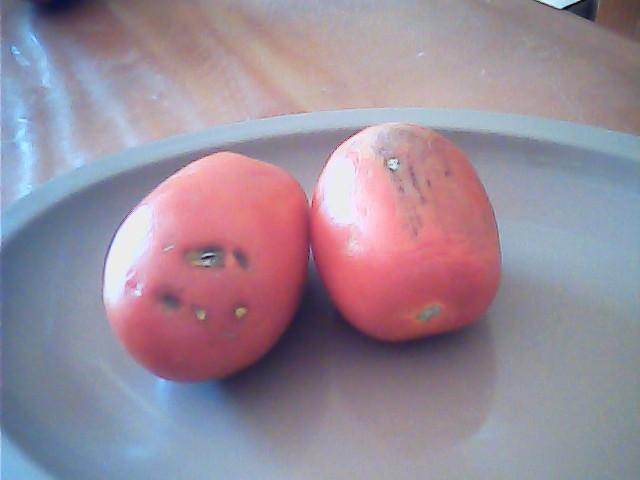defectuoso: (97, 152, 311, 383), (315, 120, 502, 344)
